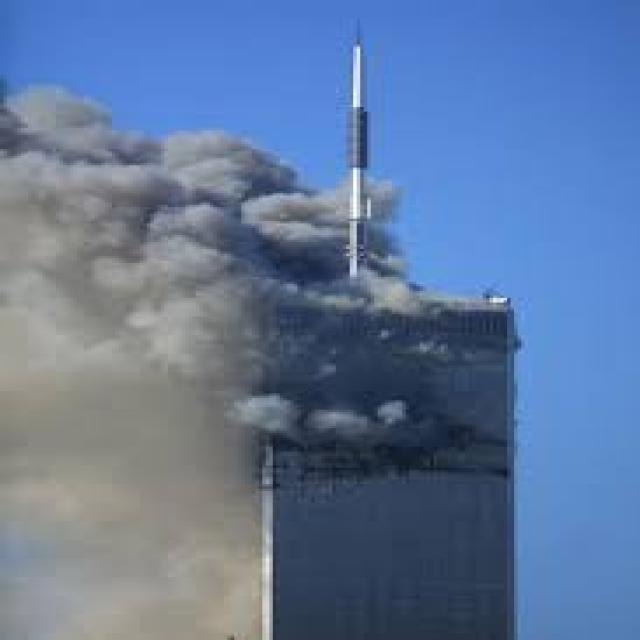Smoke: (4, 98, 462, 461)
